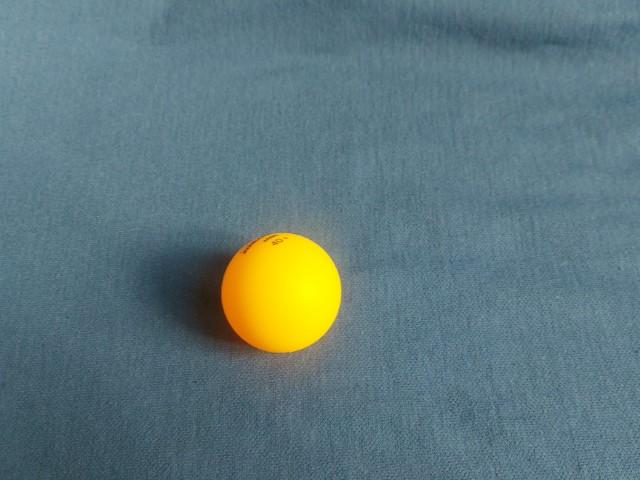oball: (212, 228, 347, 359)
